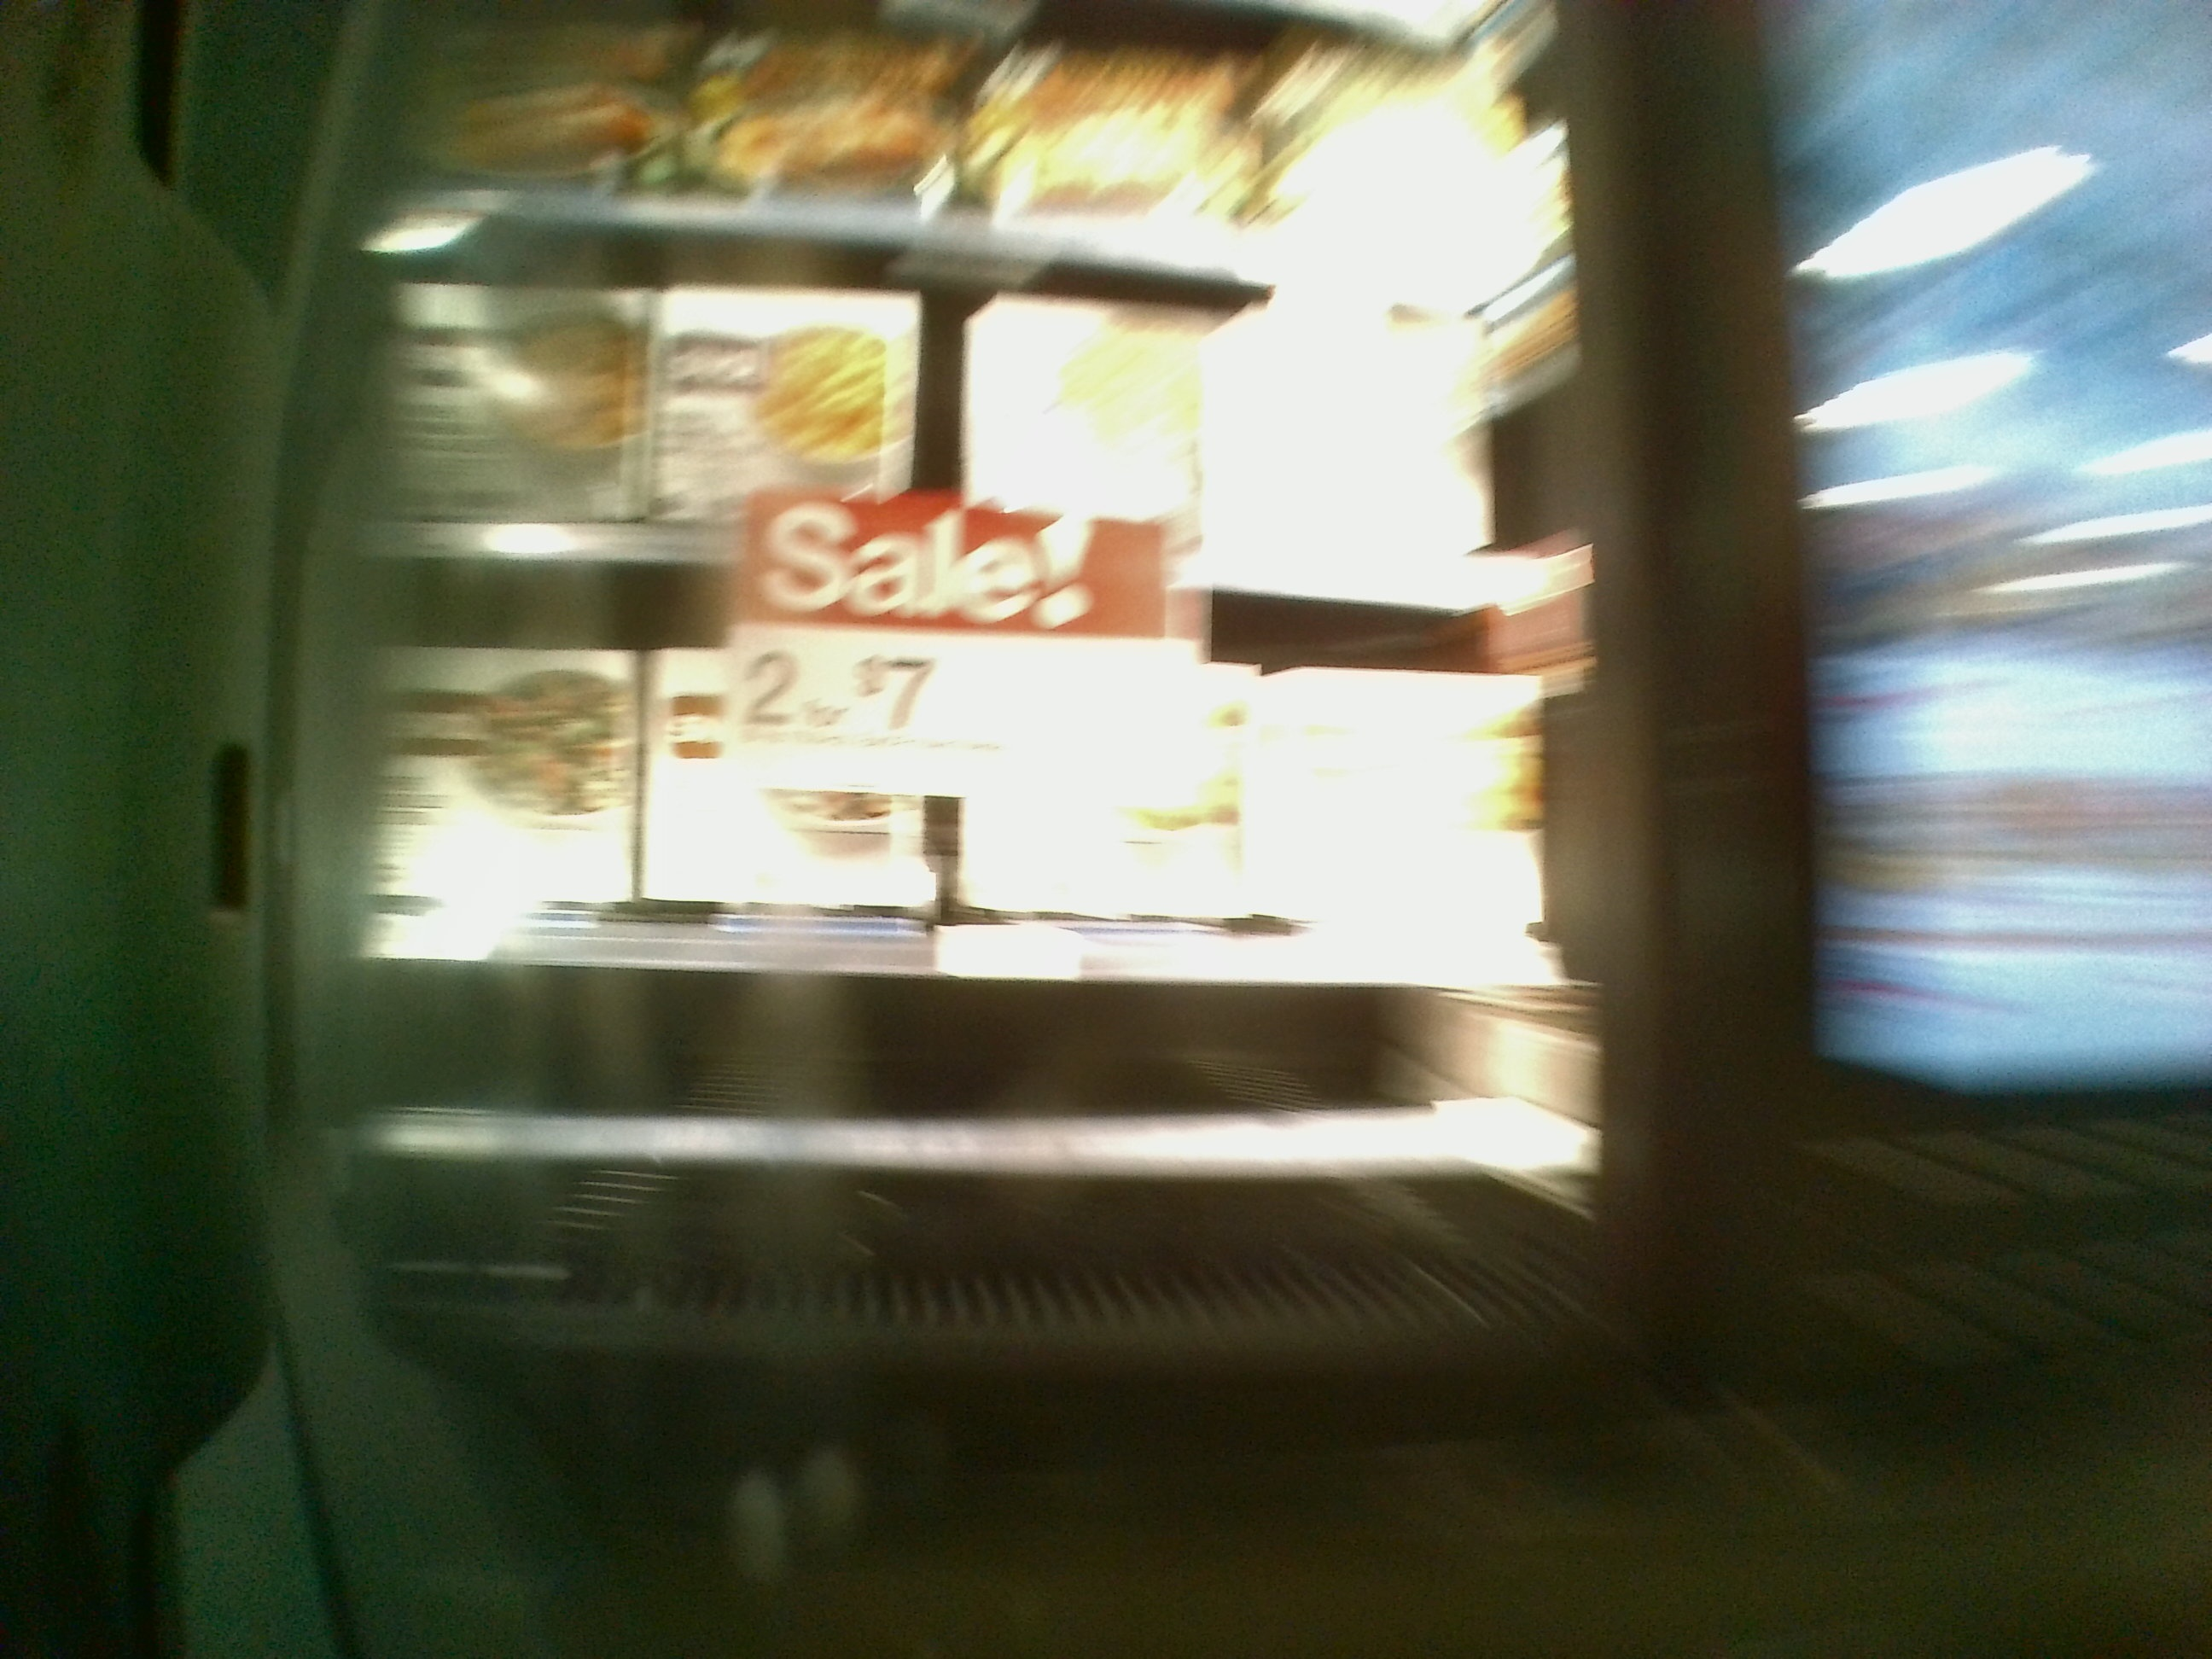shelf: (352, 591, 1594, 997), (374, 986, 1587, 1323), (355, 265, 1573, 599)
